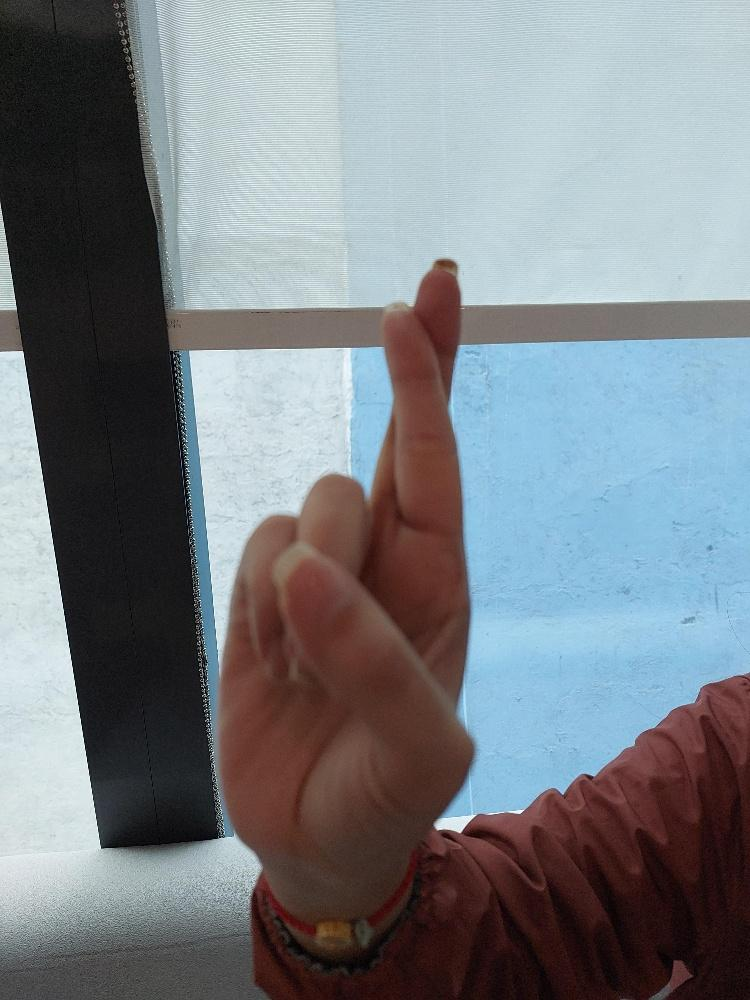r: (211, 254, 479, 899)
